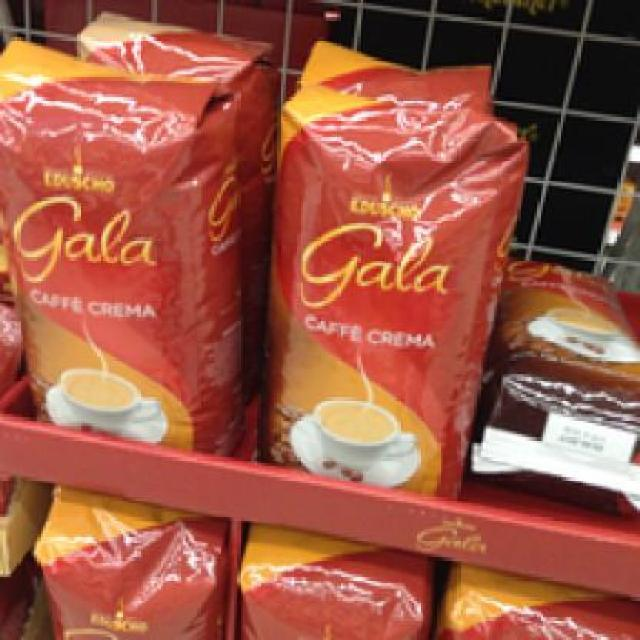Coffee: (257, 34, 517, 494), (0, 33, 240, 450), (472, 248, 634, 508)
